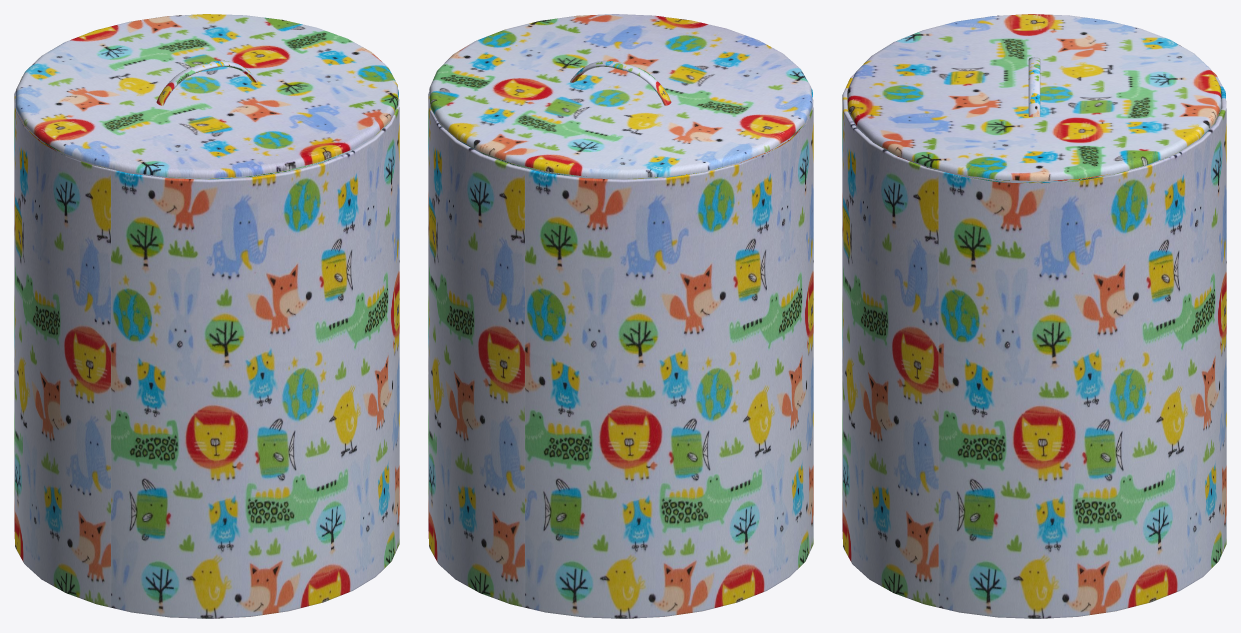
Rendered from Basket.fbx.
3 renders of one model, left to right at view 1: azimuth 30°, elevation 25°; view 2: azimuth 150°, elevation 25°; view 3: azimuth 270°, elevation 25°, orthographic.
Parts seen in each view (by area): view 1: Basket; view 2: Basket; view 3: Basket.
Boxes of the visible parts, <box> form: Basket: <box>14,14,399,618</box>; Basket: <box>428,14,813,618</box>; Basket: <box>842,14,1226,618</box>.
Size of the model in its own units: 40.05 by 54.05 by 39.85.
1 material, 1 textured.
